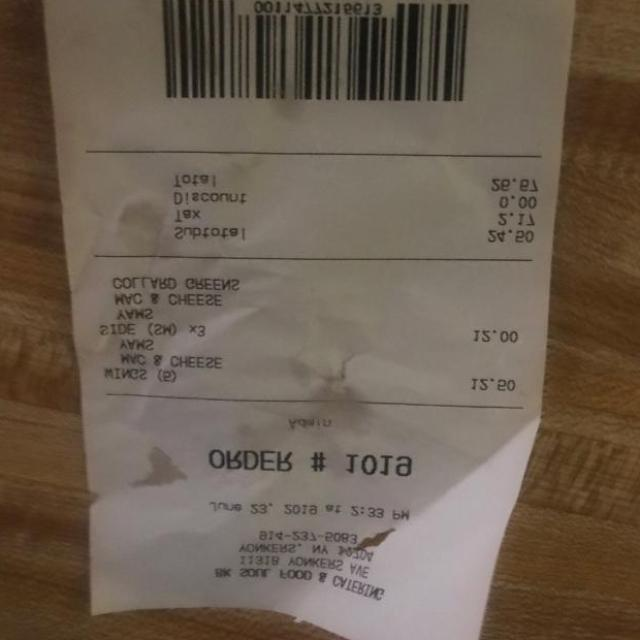kertas: (45, 0, 575, 640)
